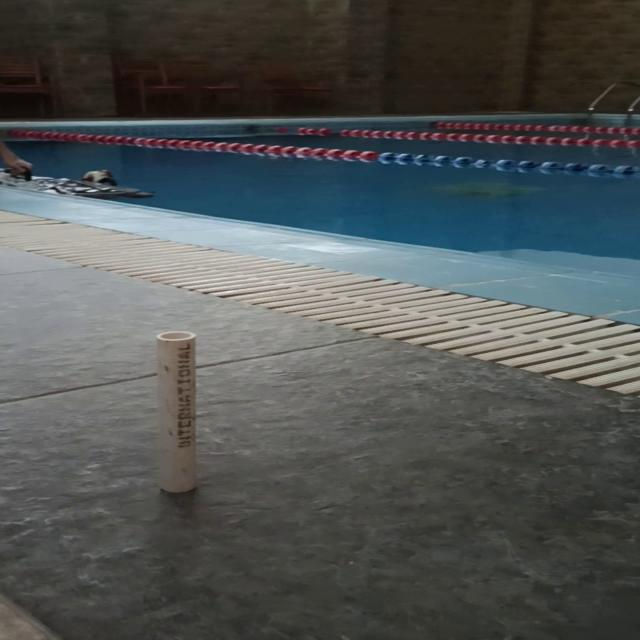Cube: (153, 329, 199, 493)
